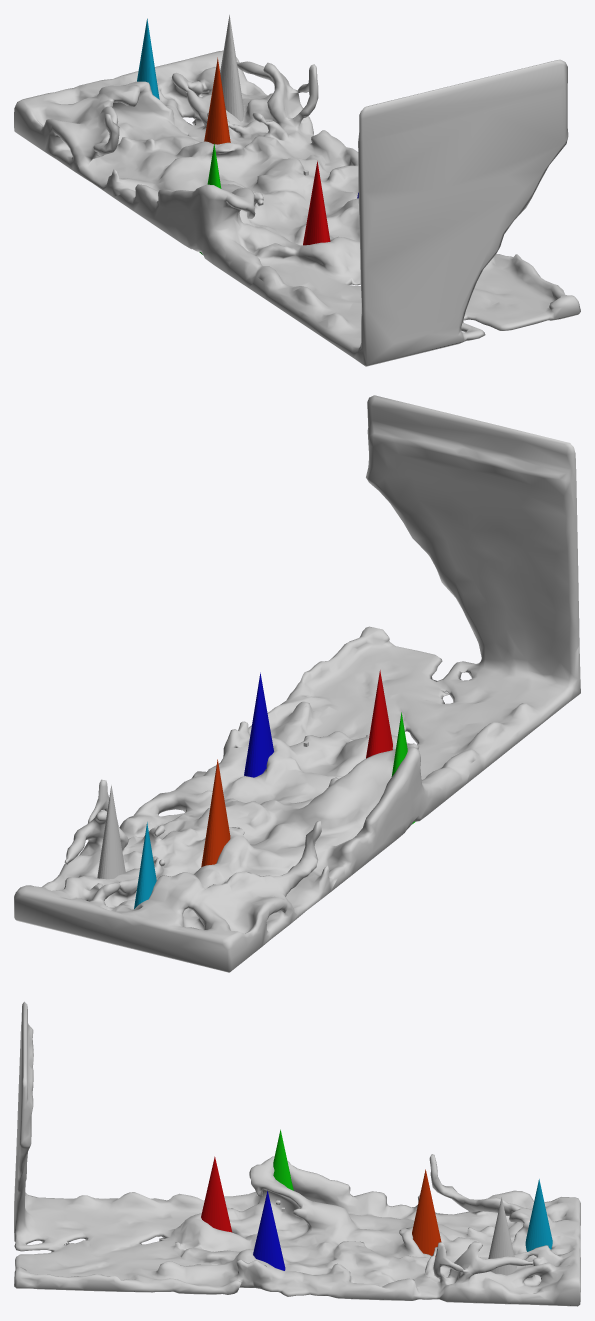
The picture shows the model from 3 angles, top to bottom: view 1: azimuth 30°, elevation 25°; view 2: azimuth 150°, elevation 25°; view 3: azimuth 270°, elevation 25°; orthographic projection. The views are drawn at different scales.
Parts seen in each view (by area): view 1: Liquid_Domain, 円錐, 円錐.004, 円錐.001, 円錐.005; view 2: Liquid_Domain, 円錐.002, 円錐.004, 円錐, 円錐.001, 円錐.005; view 3: Liquid_Domain, 円錐.004, 円錐.002, 円錐.001, 円錐.005, 円錐, 円錐.003.
Part boxes in pixels (x1,y1,x2,y2): Liquid_Domain: (14, 50, 580, 366); 円錐: (220, 15, 244, 121); 円錐.004: (204, 57, 230, 144); 円錐.001: (303, 161, 330, 245); 円錐.005: (137, 18, 159, 99); Liquid_Domain: (14, 395, 580, 972); 円錐.002: (244, 672, 273, 777); 円錐.004: (201, 759, 230, 867); 円錐: (97, 785, 125, 879); 円錐.001: (366, 670, 392, 758); 円錐.005: (134, 822, 156, 908); Liquid_Domain: (14, 1001, 580, 1306); 円錐.004: (412, 1169, 441, 1256); 円錐.002: (253, 1191, 285, 1270); 円錐.001: (201, 1156, 232, 1232); 円錐.005: (525, 1179, 552, 1251); 円錐: (488, 1197, 516, 1275); 円錐.003: (273, 1129, 293, 1190).
Bounding box in the file's own units: 129 × 158 × 361.
